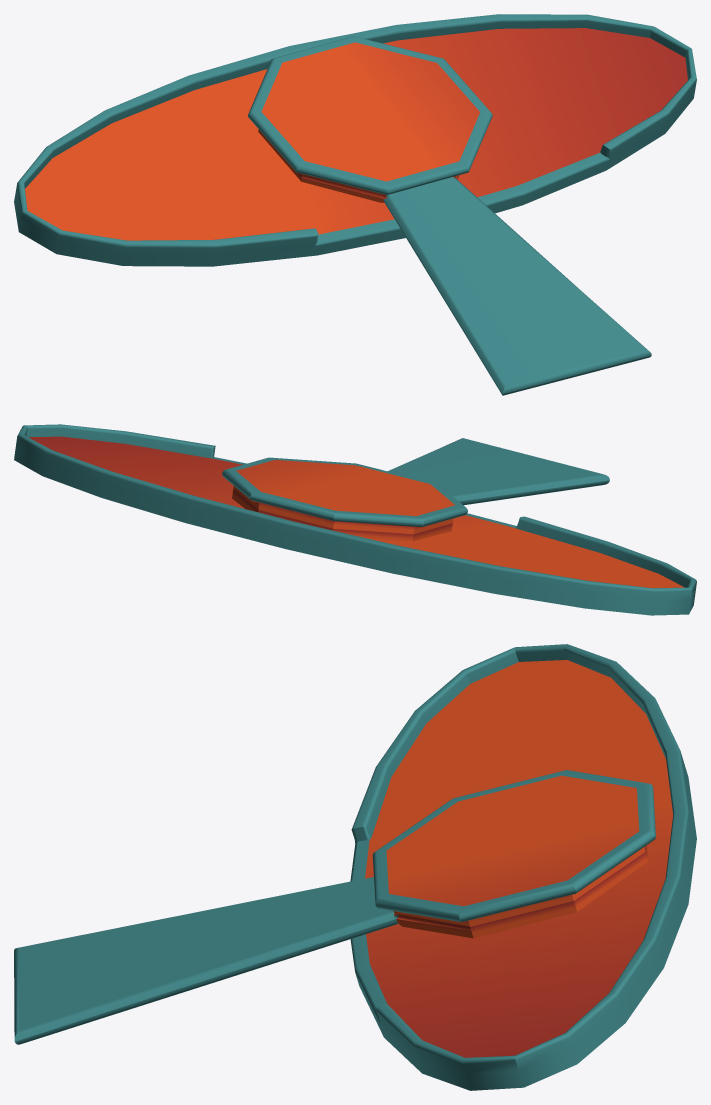
Rendered from tawlaLoula.fbx.
The picture shows the model from 3 angles, top to bottom: view 1: azimuth 30°, elevation 25°; view 2: azimuth 150°, elevation 25°; view 3: azimuth 270°, elevation 25°; orthographic projection. The views are drawn at different scales.
Parts seen in each view (by area): view 1: pCylinder2, pCylinder1; view 2: pCylinder2, pCylinder1; view 3: pCylinder2, pCylinder1.
Boxes of the visible parts, x1,y1,x2,y2 form: pCylinder2: (14,14,696,266); pCylinder1: (248,36,651,395); pCylinder2: (14,424,696,615); pCylinder1: (222,438,609,541); pCylinder2: (350,644,696,1090); pCylinder1: (14,770,655,1044).
Size of the model in its own units: 14.48 by 3.12 by 10.14.
Materials: 4 (2 with a texture image).
